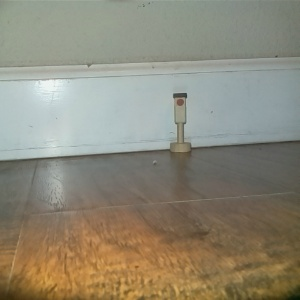traffic light red: (168, 91, 192, 153)
